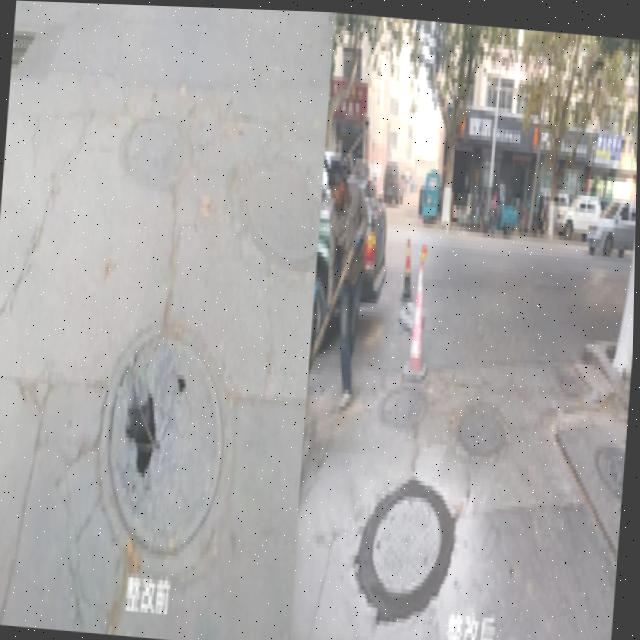manhole: (91, 308, 240, 567)
